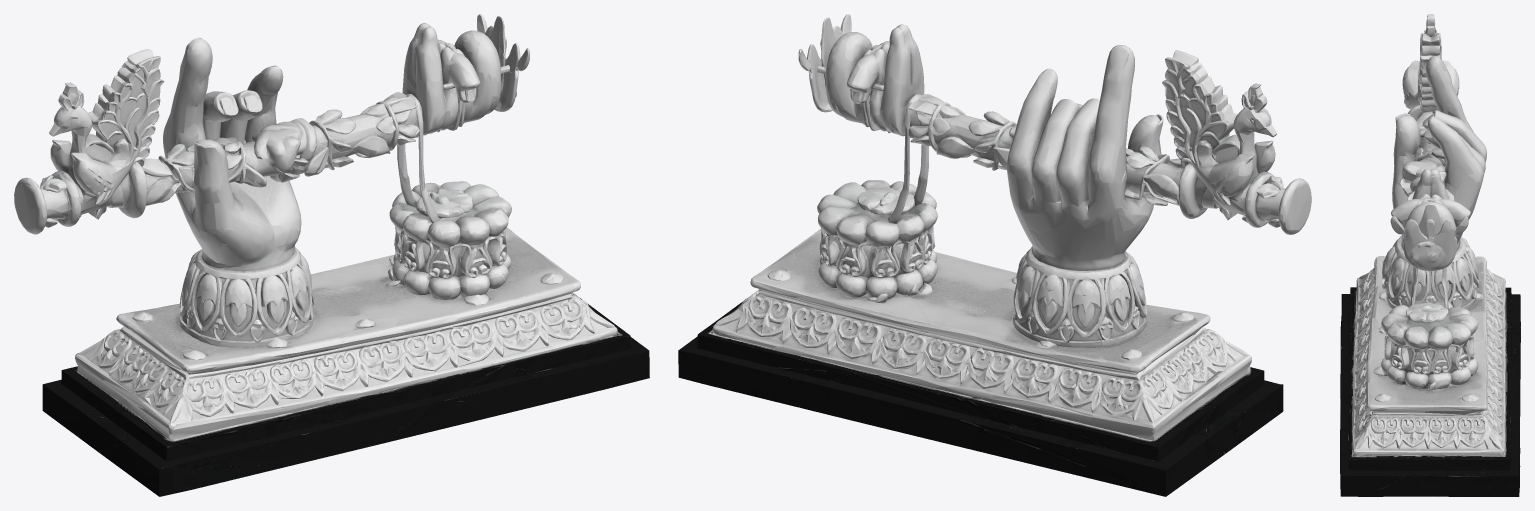
The model's file is touch925-pure-999-silver-krishna-bansuri.glb.
3 renders of one model, left to right at view 1: azimuth 30°, elevation 25°; view 2: azimuth 150°, elevation 25°; view 3: azimuth 270°, elevation 25°, orthographic. The views are drawn at different scales.
Parts seen in each view (by area): view 1: Mesh_0; view 2: Mesh_0; view 3: Mesh_0.
Part boxes in pixels (<box>): Mesh_0: <box>14,14,649,496</box>; Mesh_0: <box>678,14,1311,496</box>; Mesh_0: <box>1340,14,1520,496</box>.
Size of the model in its own units: 1.9 by 1.25 by 0.6914.
1 material, 1 textured.
